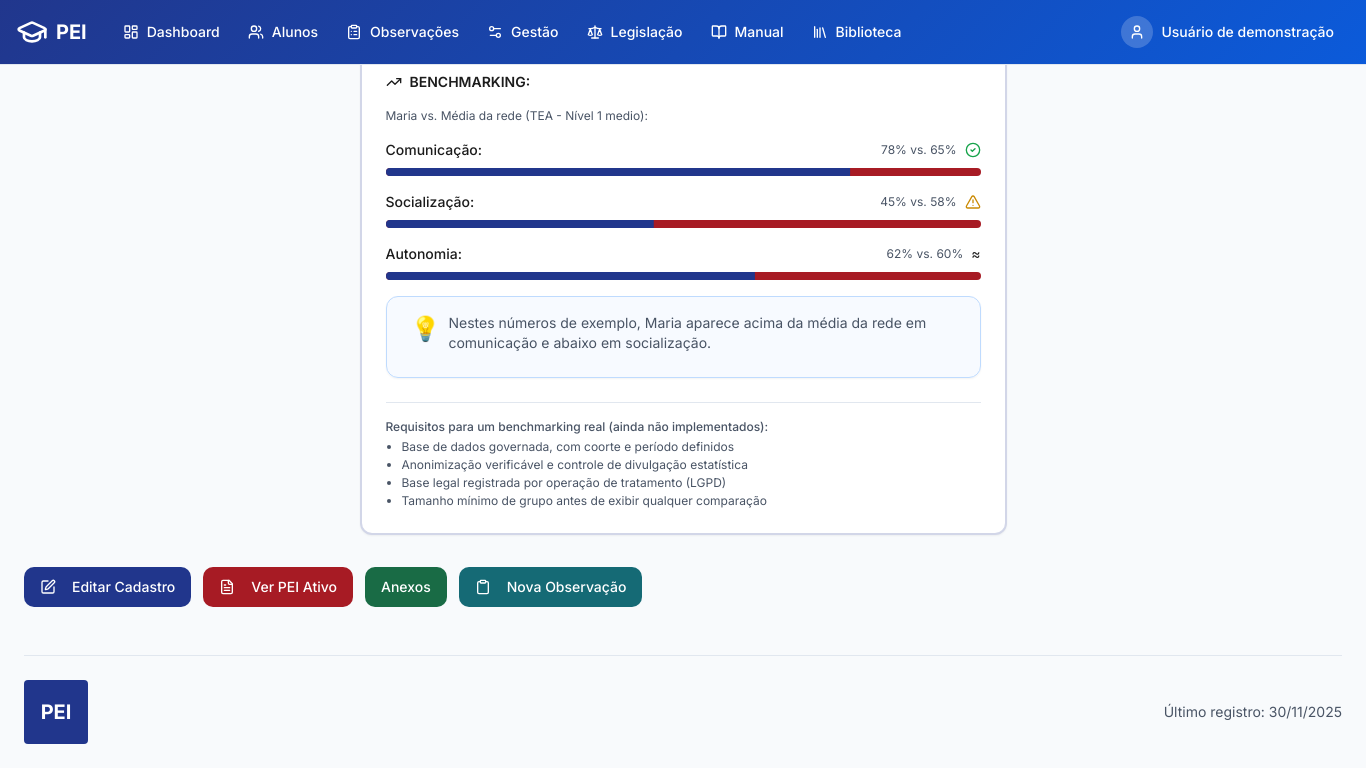
Test: Ver PEI: o plano é do estudante aberto › o estudante com plano vigente vê identificação, perfil e progresso do store
(page scrolled)
Click the button "Ver PEI Ativo" at [278, 587], box [203, 567, 353, 607]
(page scrolled)
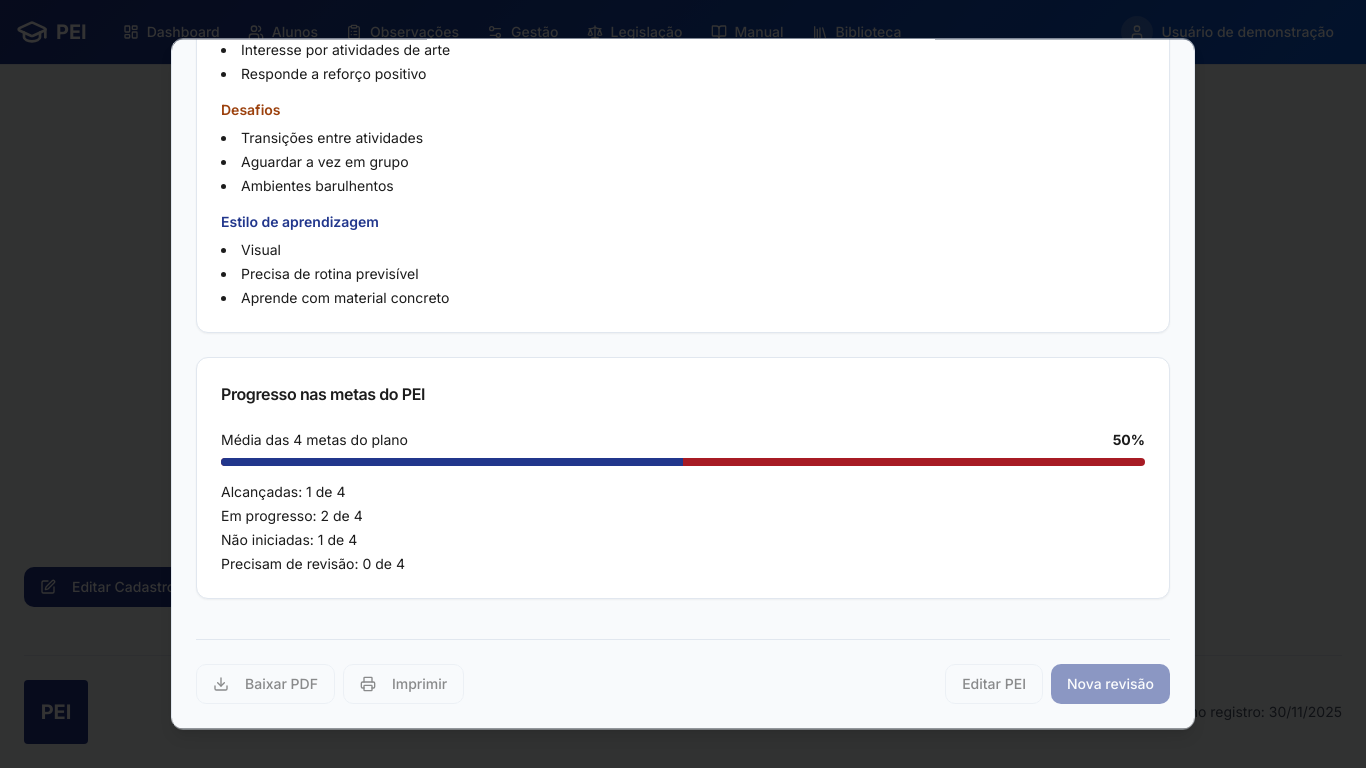
Now the list item "Transições entre atividades" is shown, box [241, 129, 423, 146]
Now the heading "Progresso nas metas do PEI" is shown, box [221, 384, 425, 404]
Now the text "50%" is shown, box [1113, 430, 1145, 450]
